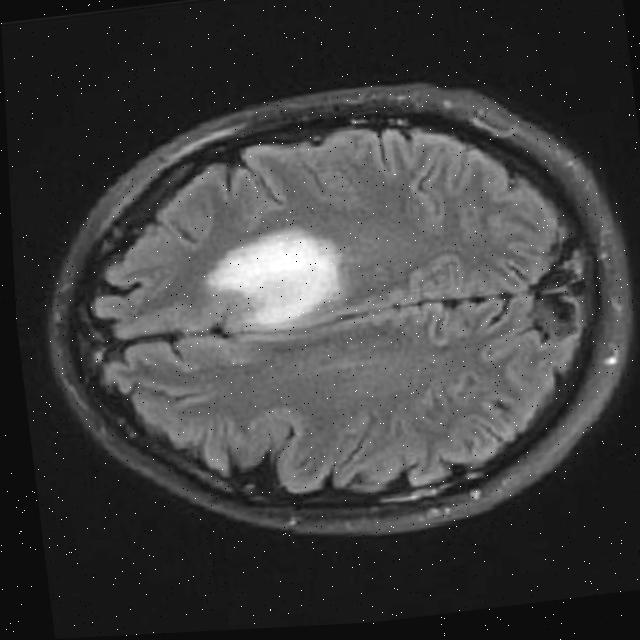Meningioma: (199, 220, 352, 334)
